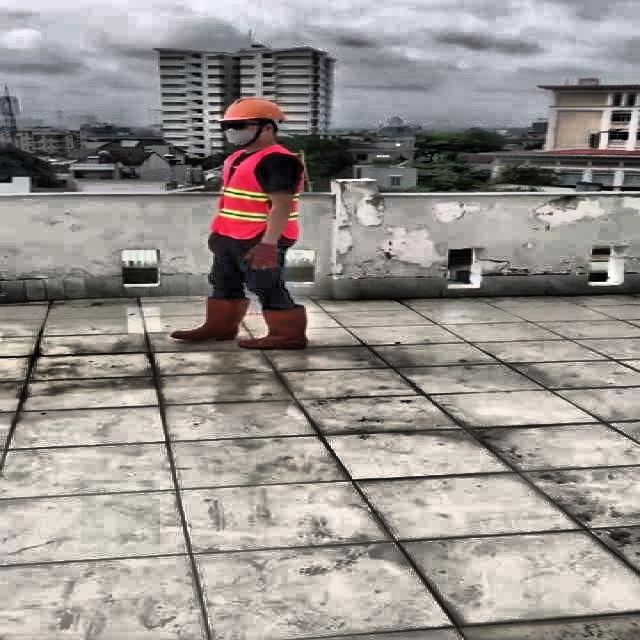safety_helmet: (219, 92, 290, 128)
safety_jacket: (210, 152, 302, 242)
